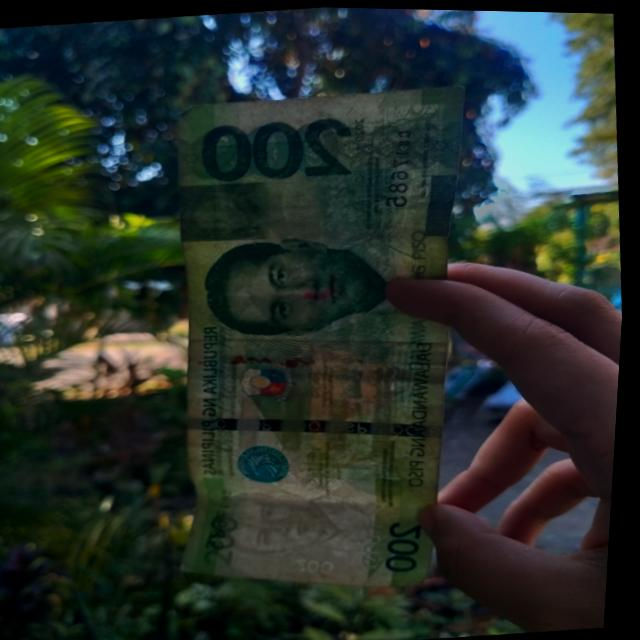concealed_value: (176, 178, 278, 245)
security_thread: (194, 397, 448, 454)
see_through_mark: (356, 478, 406, 568)
serial_number: (377, 123, 422, 208)
value: (190, 107, 371, 191)
value_watermark: (290, 549, 349, 581)
watermark: (222, 470, 374, 566)
